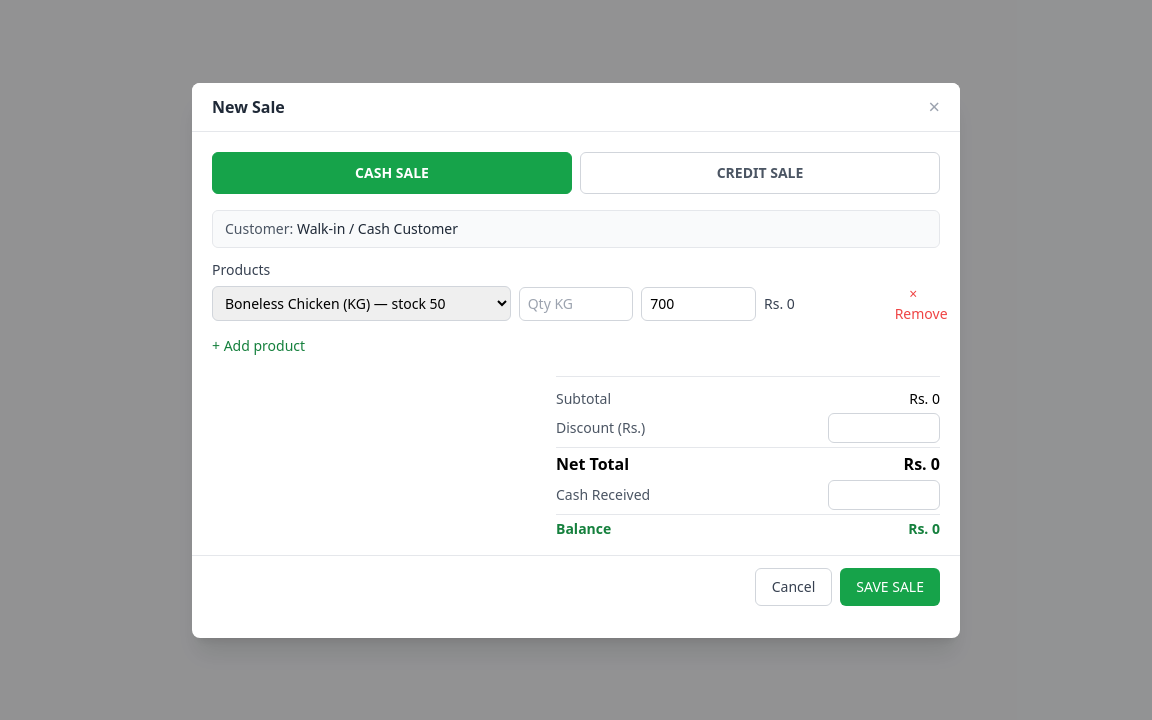
Test: NewSaleModal — Credit Sale › requires selecting a named customer and shows Amount Due
This screenshot has width=1152, height=720.
Step 1. Click the button "CREDIT SALE" → click(760, 172), box [580,152,940,194]
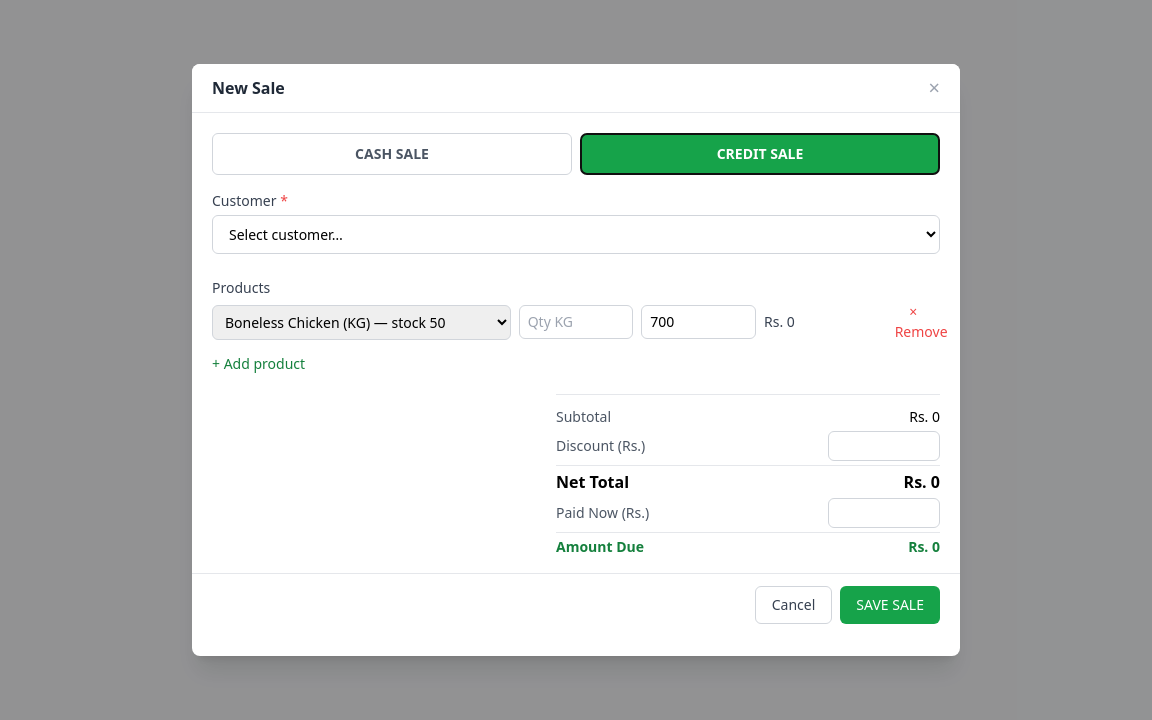
Check: the dropdown named "Customer" is shown
Check: the text "Walk-in / Cash Customer" is gone
Step 2. Select "Restaurant XYZ (owes Rs. 5,000)" in the dropdown named "Customer" → (576, 234), box [212,215,940,254]
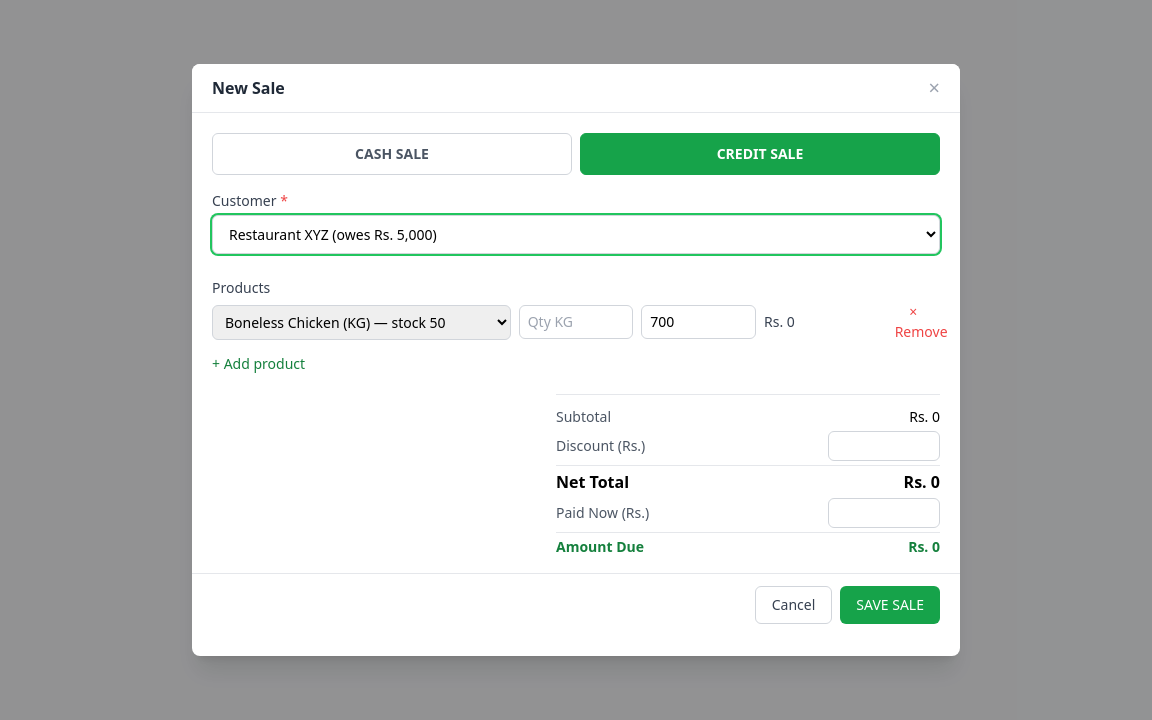
Step 3. Select "Boneless Chicken (KG) — stock 50" in the dropdown named "Product" → (361, 322), box [212,304,511,340]
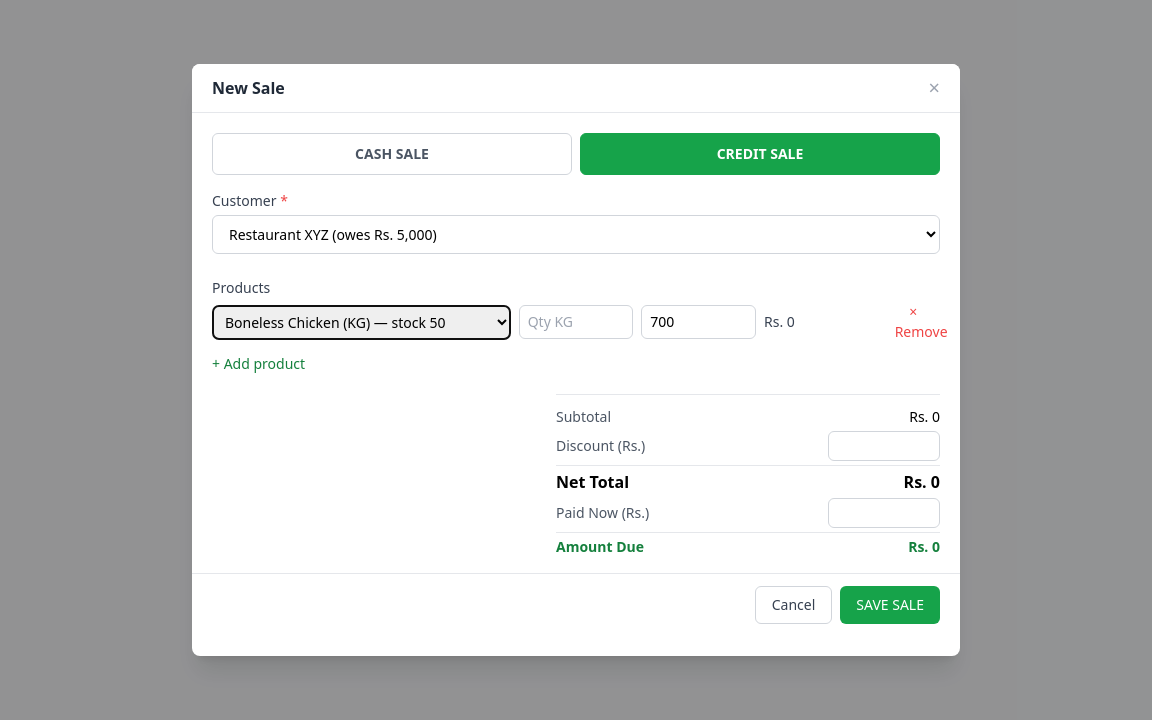
Step 4. Type "10" into the number field named "Quantity" → (576, 322), box [519,305,633,339]
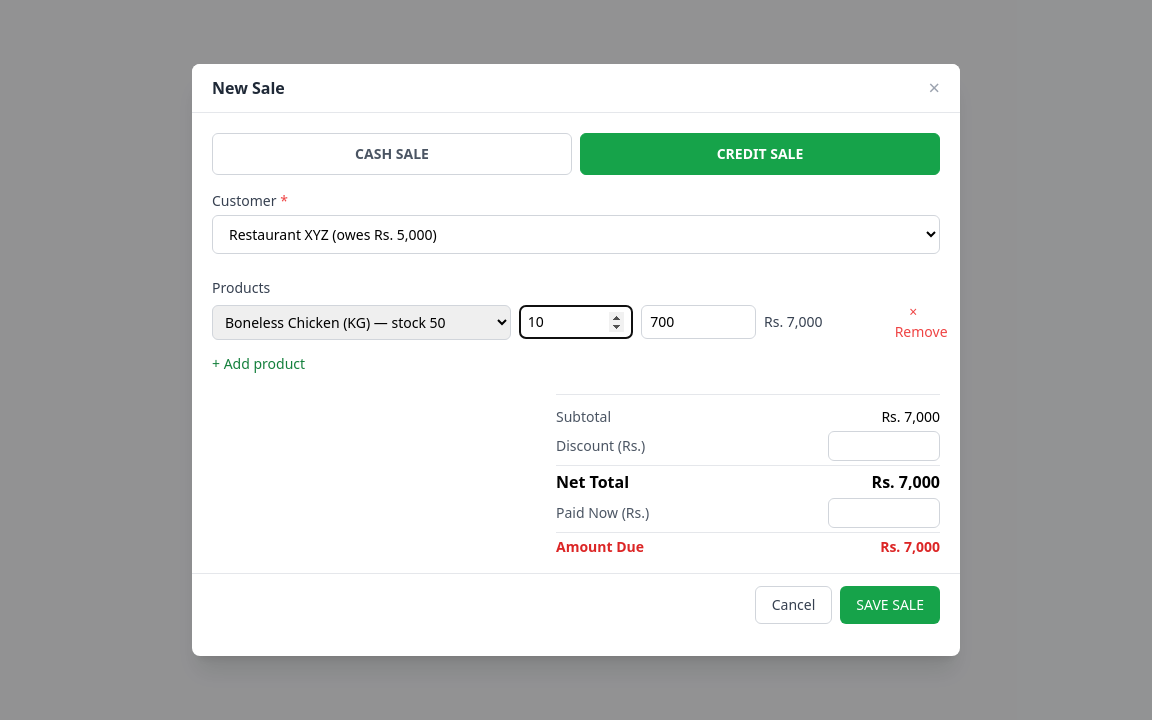
Check: the text "Amount Due" shows "Rs. 7,000", box [880,537,940,556]
